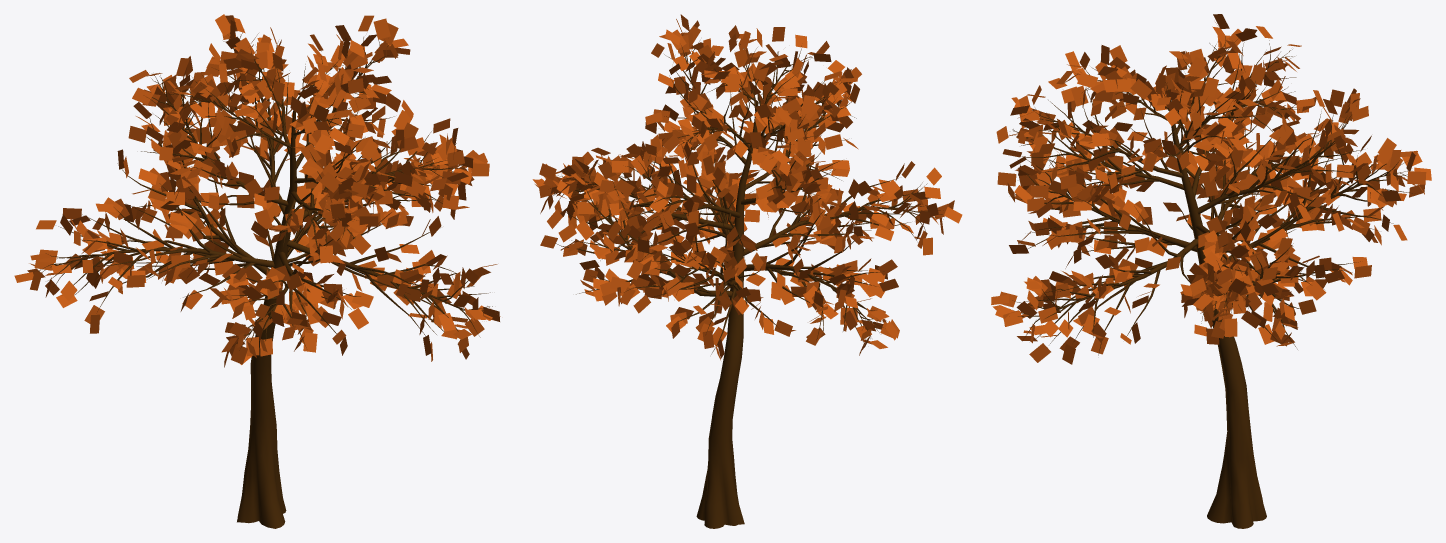
Rendered from tree_02.FBX.
3 renders of one model, left to right at view 1: azimuth 30°, elevation 25°; view 2: azimuth 150°, elevation 25°; view 3: azimuth 270°, elevation 25°, orthographic. The views are drawn at different scales.
Visible parts, largest first — view 1: Foliage001; view 2: Foliage001; view 3: Foliage001.
Boxes of the visible parts, left/top/right/bottom form: Foliage001: left=14, top=14, right=500, bottom=528; Foliage001: left=532, top=14, right=962, bottom=528; Foliage001: left=991, top=14, right=1431, bottom=528.
Size of the model in its own units: 106 by 119 by 96.84.
